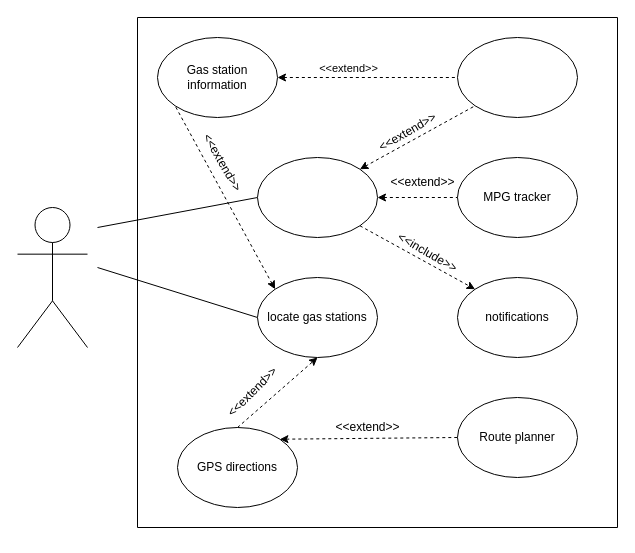
This 635x553 diagram has some shape labels left out. The shapes that lost their labels are listed below. From the top down, each one's centre as x and y in pixels, then its label:
(517,77): reviews
(317,197): user account
(52,277): User
